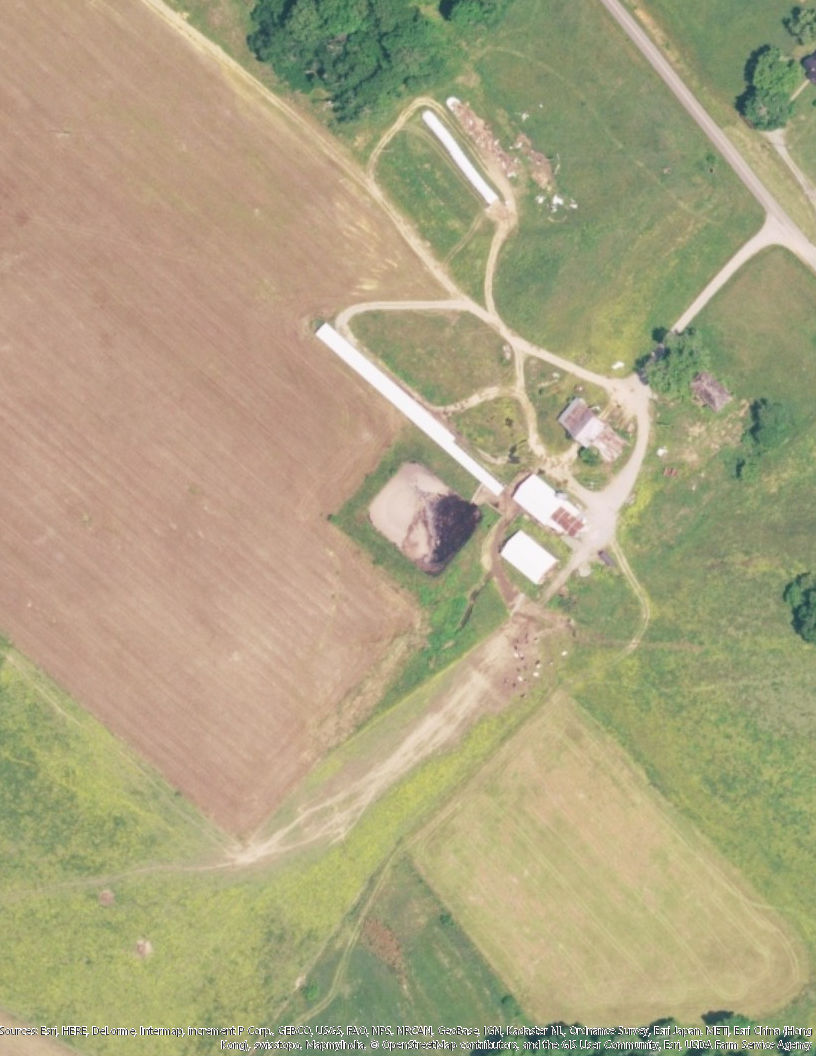cafo: (508, 470, 595, 546), (499, 526, 559, 586)
